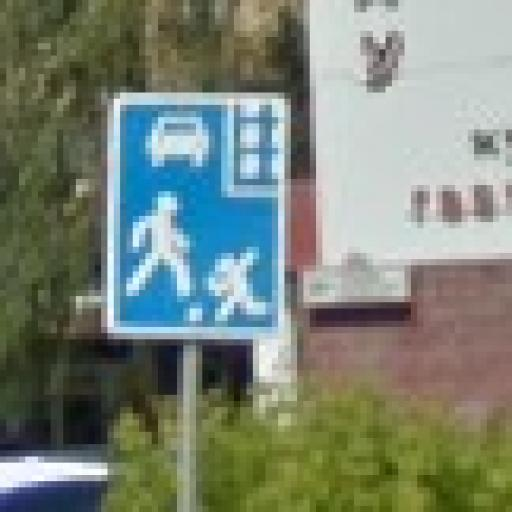traffic_sign: (102, 88, 292, 347)
